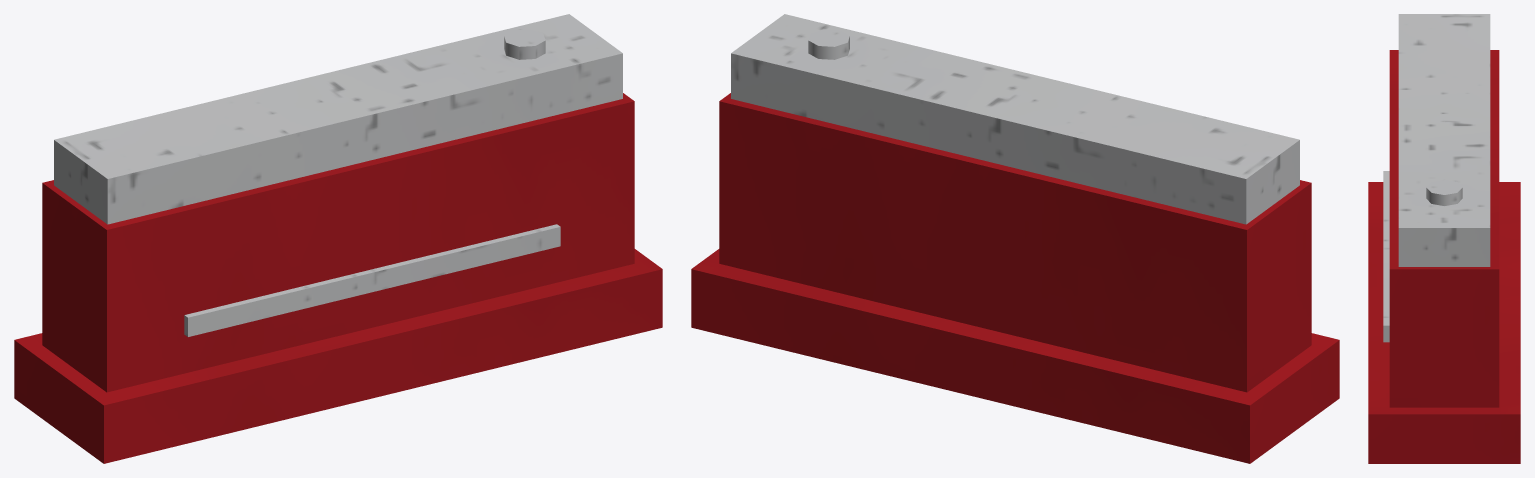
File: SM_INFD_WaterBarrier.fbx
3 renders of one model, left to right at view 1: azimuth 30°, elevation 25°; view 2: azimuth 150°, elevation 25°; view 3: azimuth 270°, elevation 25°, orthographic. The views are drawn at different scales.
Parts seen in each view (by area): view 1: SM_INFD_WaterBarrier_LOD0; view 2: SM_INFD_WaterBarrier_LOD0; view 3: SM_INFD_WaterBarrier_LOD0.
Boxes of the visible parts, bbox=[...] form: SM_INFD_WaterBarrier_LOD0: bbox=[14, 14, 662, 463]; SM_INFD_WaterBarrier_LOD0: bbox=[691, 14, 1339, 463]; SM_INFD_WaterBarrier_LOD0: bbox=[1368, 14, 1520, 463].
Size of what is drawn, in the model's own units: 1.8 by 0.86 by 0.5.
